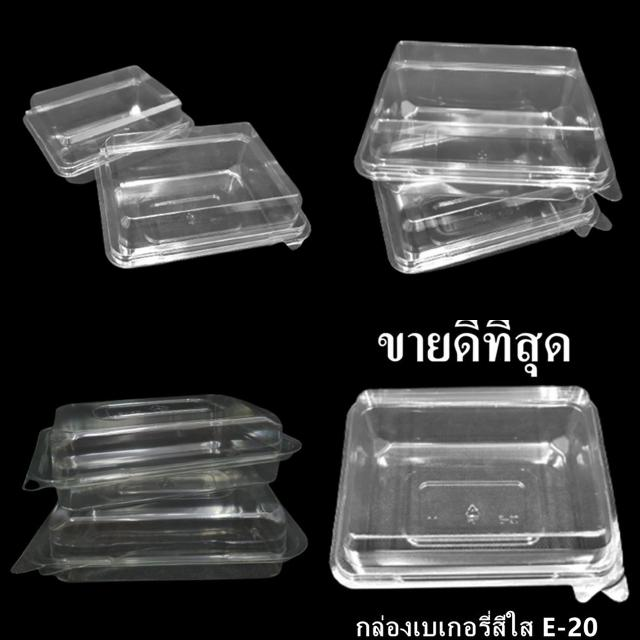Single-Use-Plastic: (330, 386, 628, 601), (355, 41, 620, 199), (25, 395, 300, 510), (95, 122, 310, 267), (14, 484, 305, 581), (374, 181, 611, 274), (24, 66, 194, 182)
